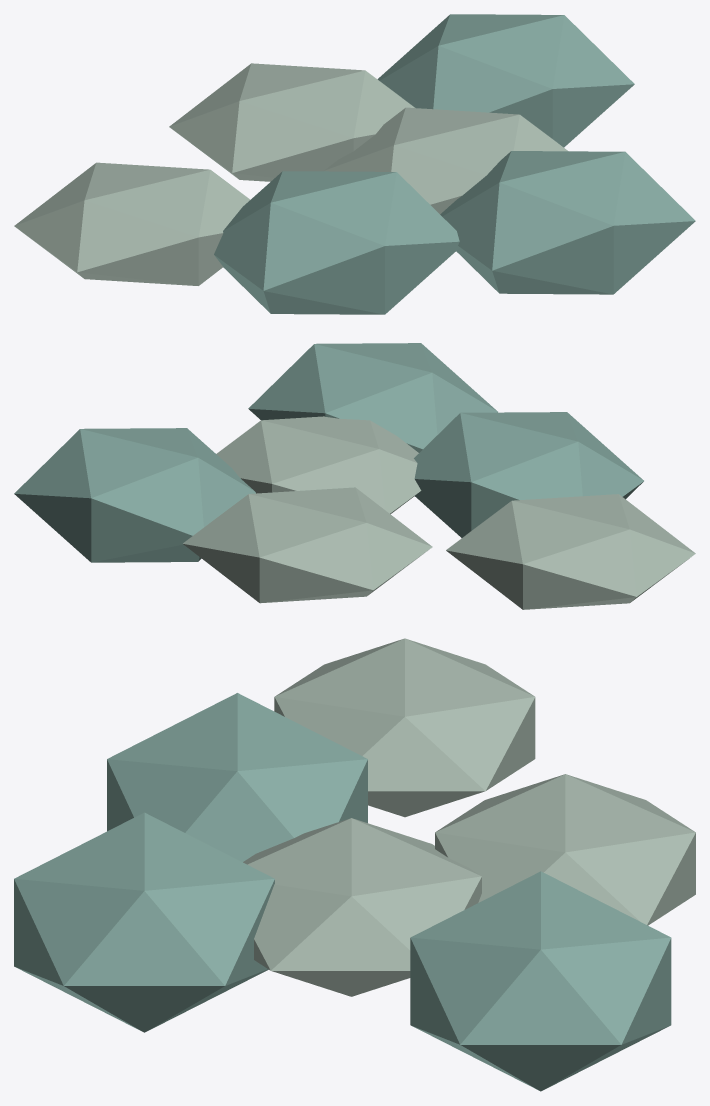
File: plant-frostLichen.glb
The picture shows the model from 3 angles, top to bottom: view 1: azimuth 30°, elevation 25°; view 2: azimuth 150°, elevation 25°; view 3: azimuth 270°, elevation 25°; orthographic projection. The views are drawn at different scales.
Parts seen in each view (by area): view 1: plant-frostLichen; view 2: plant-frostLichen; view 3: plant-frostLichen.
Boxes of the visible parts, x1,y1,x2,y2 form: plant-frostLichen: (14,14,695,314); plant-frostLichen: (14,343,695,609); plant-frostLichen: (14,638,695,1091).
Size of the model in its own units: 1.17 by 0.2042 by 0.889.
